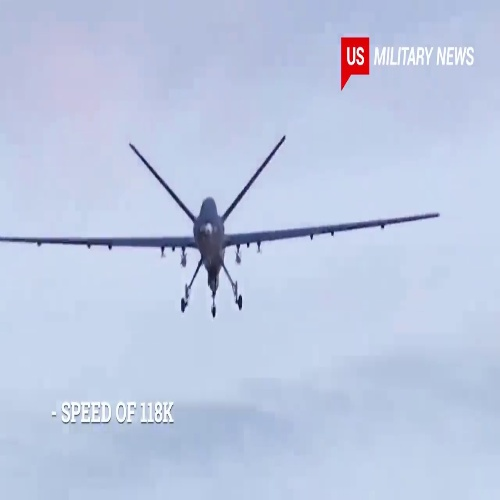uav: (5, 136, 441, 319)
